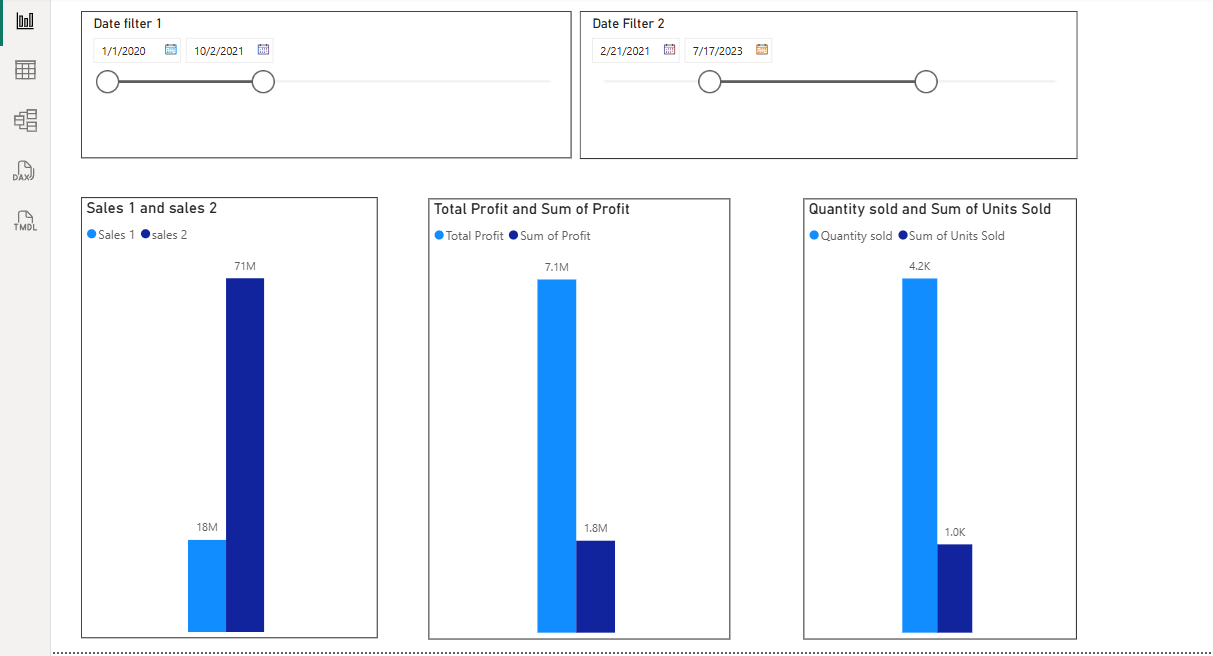

This screenshot's page, from the dashboard's own definition file:
{"tool":"powerbi","page":{"name":"Sum of net Sales approach 1","canvas":[1280,720],"ordinal":6},"visuals":[{"type":"slicer","fields":{"Values":["Date Table 1.Date"]},"box":[32.5,16.2,538.8,161.2],"z":0},{"type":"slicer","fields":{"Values":["Date Table 2.Date"]},"box":[580,16.2,546.2,162.5],"z":1000},{"type":"clusteredColumnChart","fields":{"Y":["Sum(Fact table.Net sales)","Date Table 1.Sum of Net sales"]},"box":[32.9,220.9,325.2,484.4],"z":2000},{"type":"clusteredColumnChart","fields":{"Y":["Measure  Tables.Total Profit","Sum(Fact table.Profit)"]},"box":[413.8,222.5,331.2,483.8],"z":3000},{"type":"clusteredColumnChart","fields":{"Y":["Measure  Tables.Quantity sold","Sum(Fact table.Units Sold)"]},"box":[826.2,222.5,300,483.8],"z":4000}]}

Visuals, with their boxes on the page's 1280x720 design canvas (x1, y1, x2, y2). These are canvas units, not pixel positions in the 1213x656 screenshot, which may show the page scaled, cropped or inside an application window:
slicer - Date Table 1.Date: {"left": 32, "top": 16, "right": 571, "bottom": 177}
slicer - Date Table 2.Date: {"left": 580, "top": 16, "right": 1126, "bottom": 179}
clusteredColumnChart - Sum(Fact table.Net sales) x Date Table 1.Sum of Net sales: {"left": 33, "top": 221, "right": 358, "bottom": 705}
clusteredColumnChart - Measure  Tables.Total Profit x Sum(Fact table.Profit): {"left": 414, "top": 222, "right": 745, "bottom": 706}
clusteredColumnChart - Measure  Tables.Quantity sold x Sum(Fact table.Units Sold): {"left": 826, "top": 222, "right": 1126, "bottom": 706}
